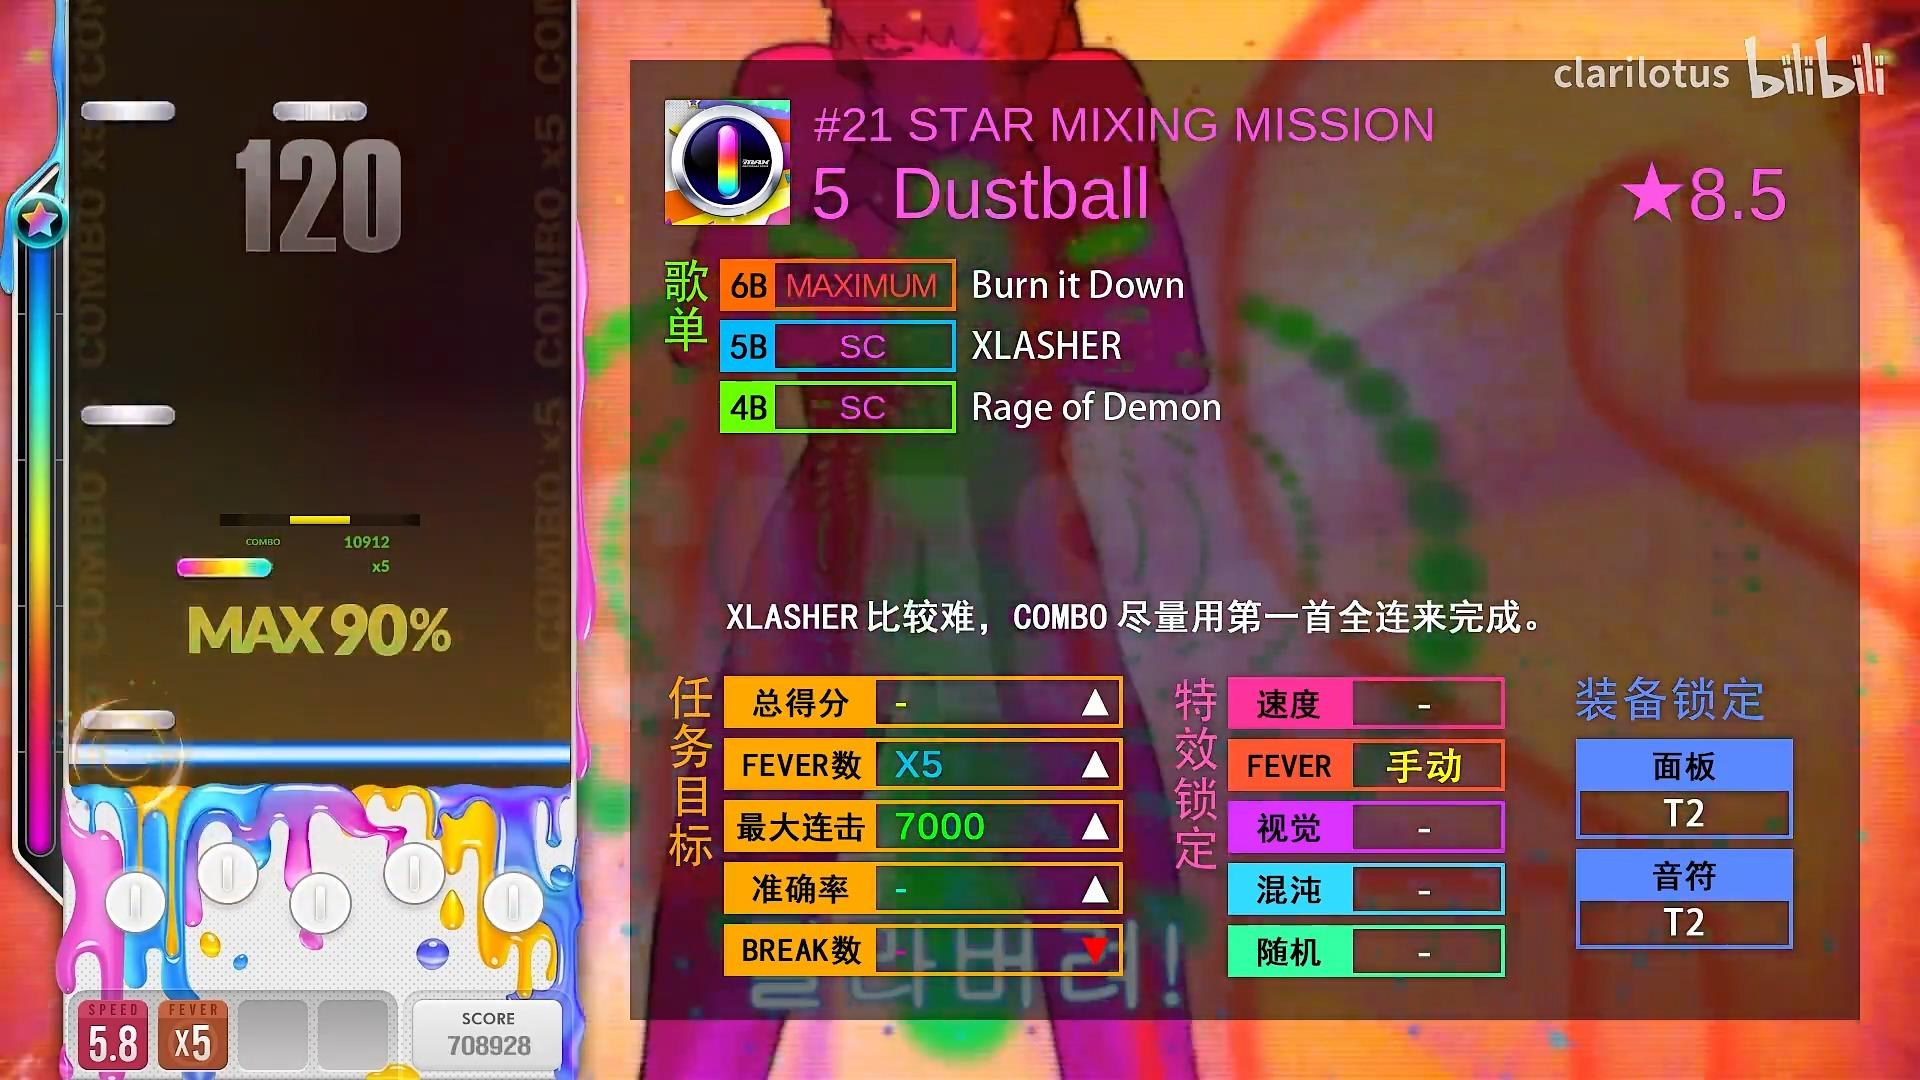note: (177, 556, 273, 579), (80, 102, 175, 123), (80, 405, 175, 426), (80, 711, 175, 731), (273, 102, 367, 121)
